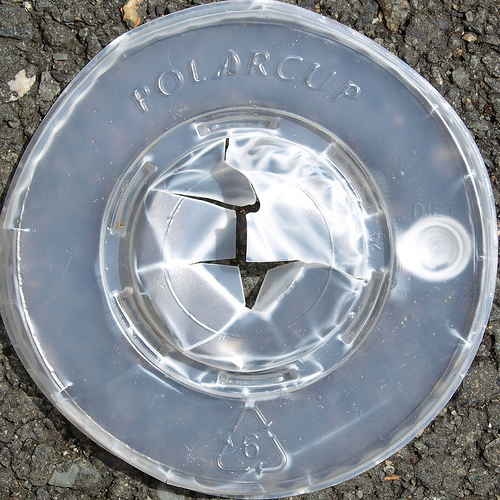litter: (4, 2, 496, 484)
